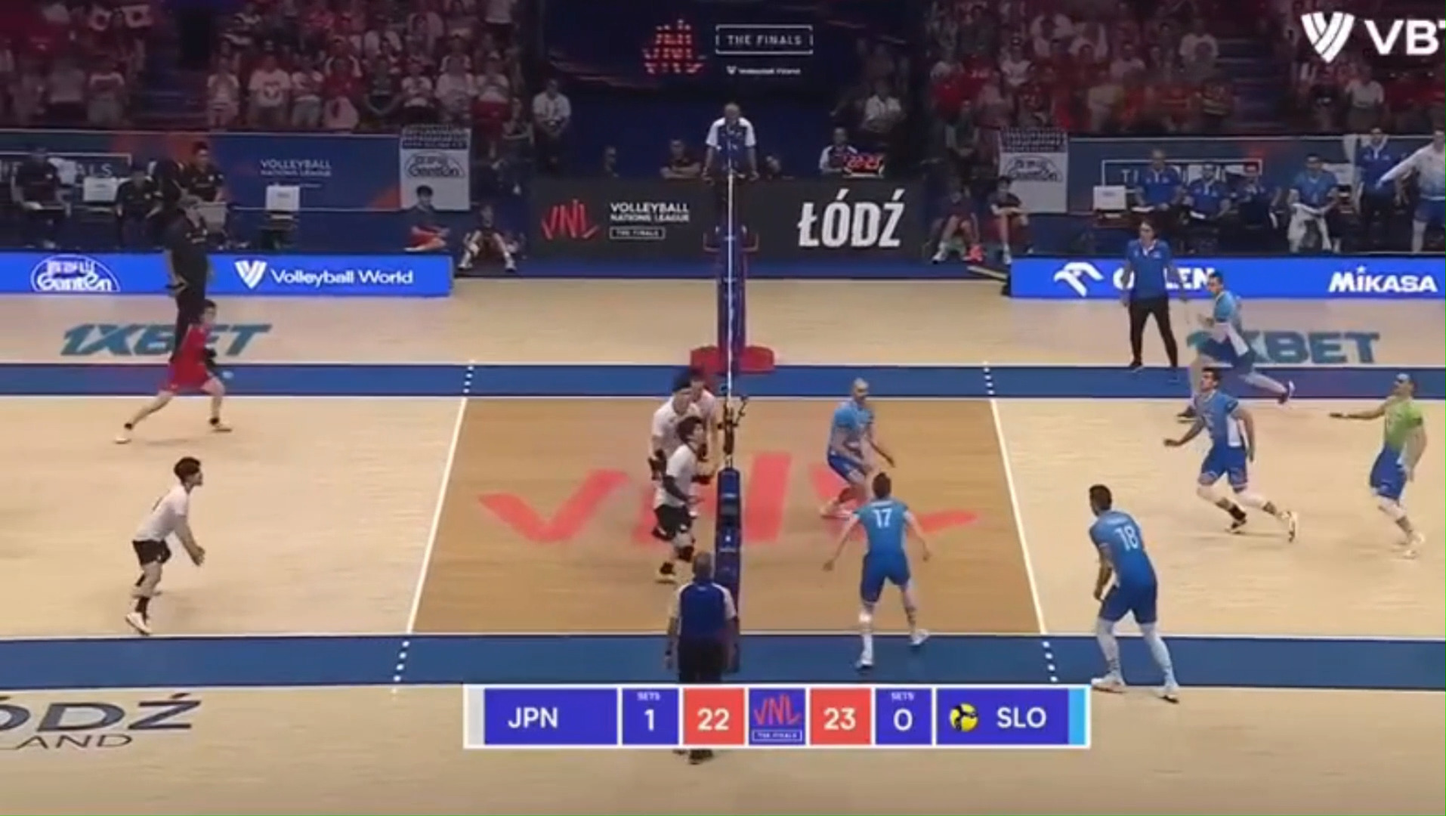player: (1164, 368, 1297, 539), (824, 472, 929, 670), (1089, 484, 1179, 703), (1329, 372, 1426, 556), (1191, 273, 1293, 404), (820, 379, 894, 518)
player 1: (117, 299, 229, 443), (126, 456, 205, 635), (653, 415, 711, 580), (649, 382, 700, 481), (689, 367, 721, 445)
referee: (702, 101, 765, 270), (665, 552, 737, 684), (1121, 219, 1179, 369), (165, 194, 211, 348)
